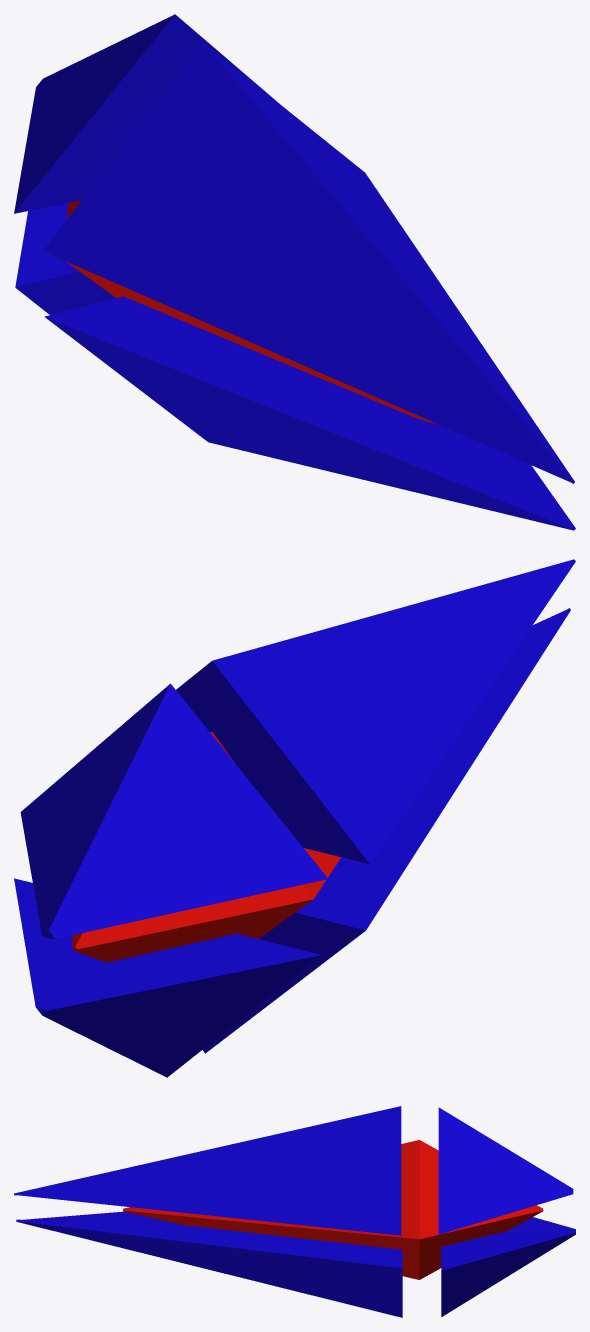
Rendered from enemy_zako.fbx.
The picture shows the model from 3 angles, top to bottom: view 1: azimuth 30°, elevation 25°; view 2: azimuth 150°, elevation 25°; view 3: azimuth 270°, elevation 25°; orthographic projection. The views are drawn at different scales.
Visible parts, largest first — view 1: Cube.001; view 2: Cube.001; view 3: Cube.001.
Boxes of the visible parts, <box> form: Cube.001: <box>14,14,575,530</box>; Cube.001: <box>14,559,575,1077</box>; Cube.001: <box>14,1106,575,1317</box>.
Bounding box in the file's own units: 3.66 × 4.33 × 10.45.
